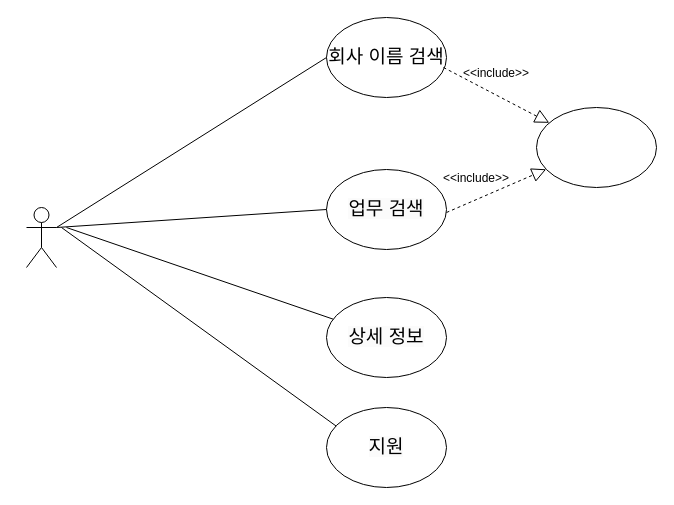
Some shapes in this 674 by 505 pixel diagram are drawn without their labels. The box of each missing label's shape, as (x1, y1, x2, y2) in pixels:
일반 회원: (26, 206, 56, 268)
채용 리스트: (536, 106, 656, 188)
